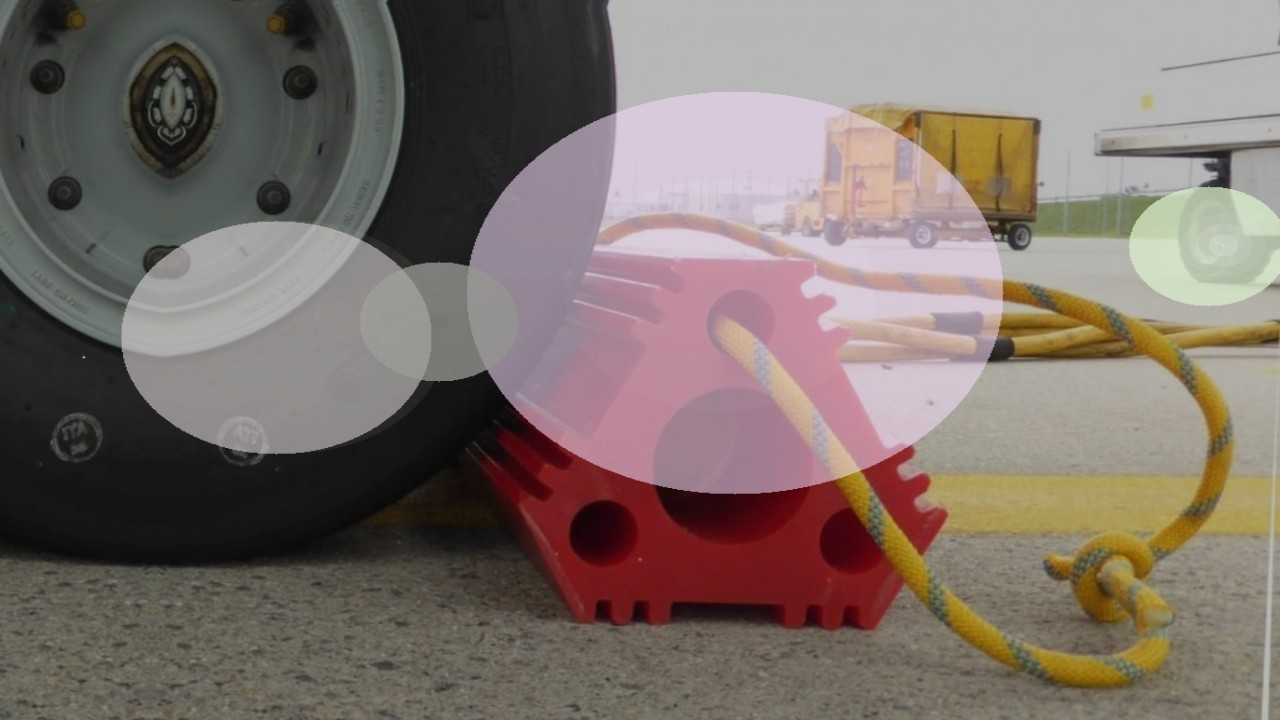chock: (448, 242, 959, 635)
wheel: (156, 0, 622, 577), (0, 0, 175, 567), (1177, 182, 1272, 283), (907, 220, 937, 247), (1006, 223, 1031, 250), (824, 218, 848, 244), (797, 214, 818, 238)
